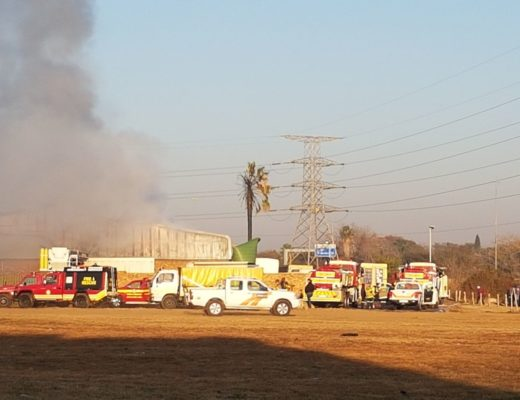smoke: (4, 7, 147, 246)
